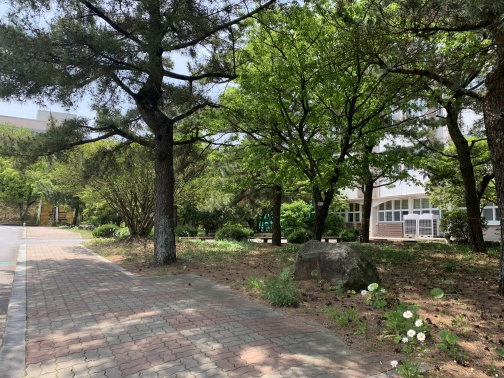Ara Hall: (239, 194, 327, 237)
College Of Education: (1, 107, 83, 226), (1, 107, 85, 141)
